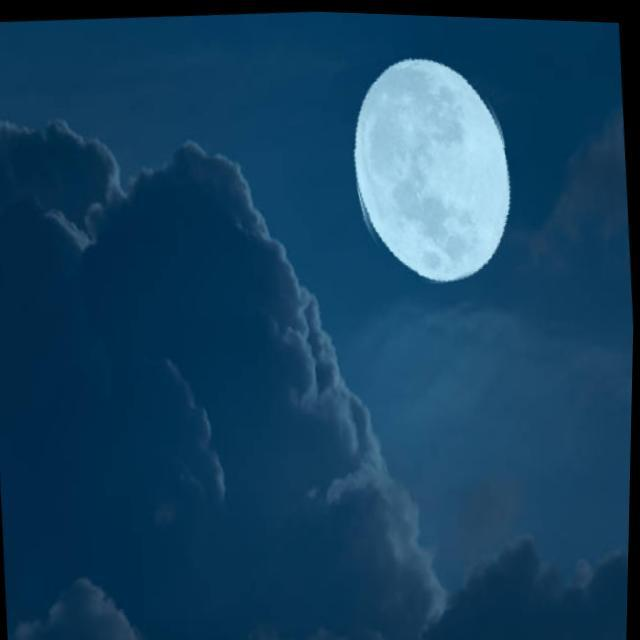moon: (336, 36, 530, 294)
